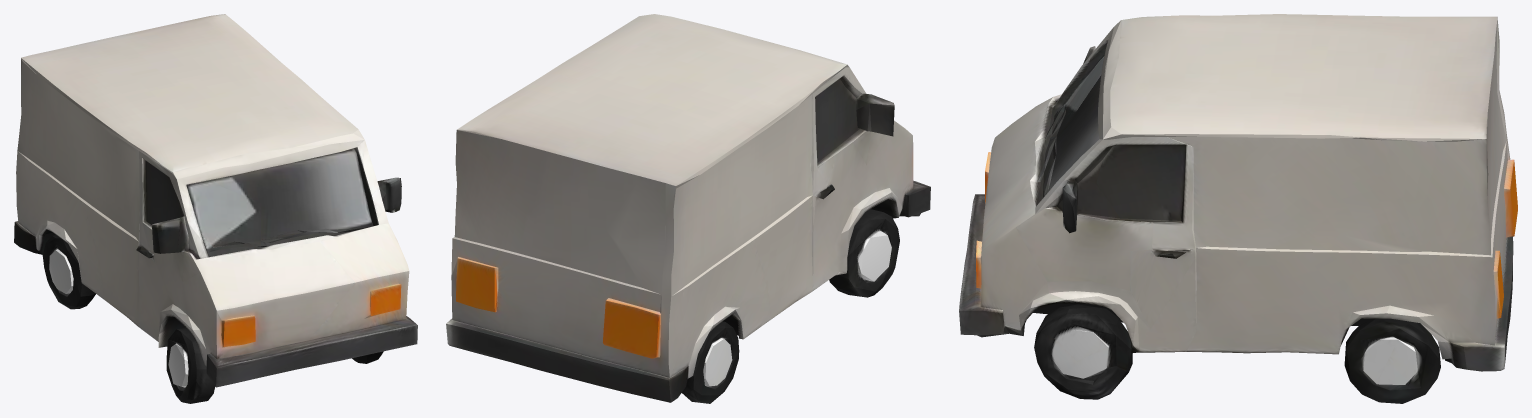
File: van.glb
The picture shows the model from 3 angles, left to right: view 1: azimuth 30°, elevation 25°; view 2: azimuth 150°, elevation 25°; view 3: azimuth 270°, elevation 25°; orthographic projection. The views are drawn at different scales.
Visible parts, largest first — view 1: model; view 2: model; view 3: model.
Part boxes in pixels (bbox=[...]): model: bbox=[14, 14, 417, 403]; model: bbox=[446, 14, 930, 403]; model: bbox=[959, 14, 1517, 403].
Bounding box in the file's own units: 1.17 × 1.04 × 1.89.
1 material, 1 textured.
